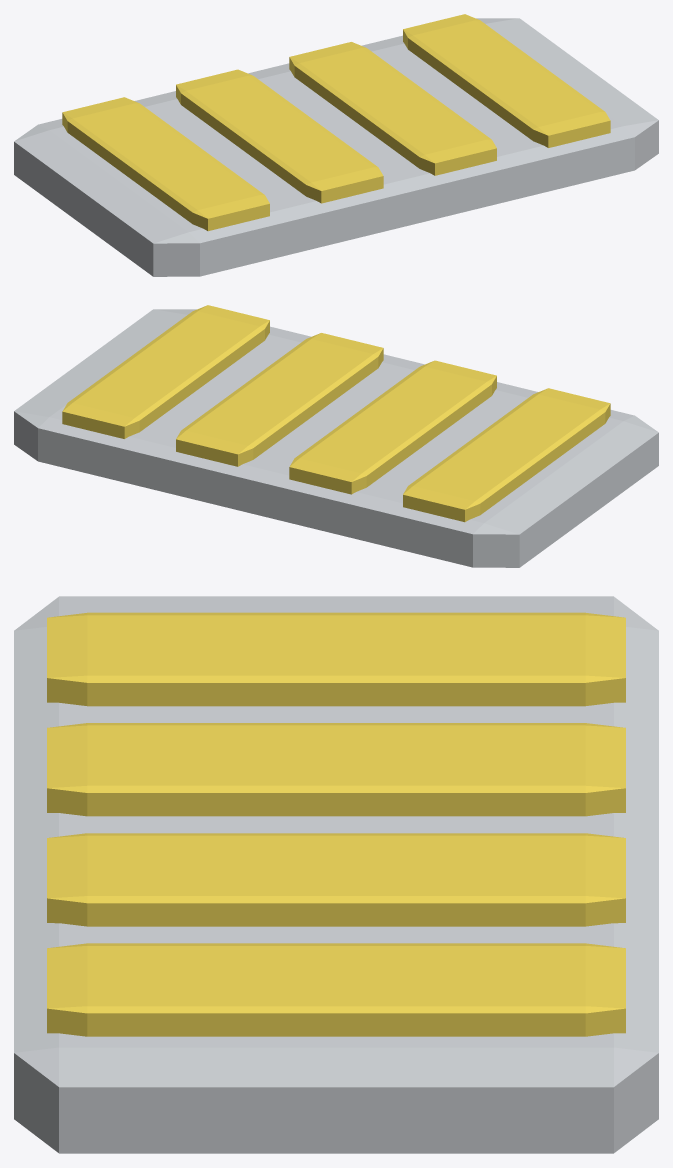
Rendered from b20_five_channel_event_cable_ramp.glb.
3 renders of one model, top to bottom at view 1: azimuth 30°, elevation 25°; view 2: azimuth 150°, elevation 25°; view 3: azimuth 270°, elevation 25°, orthographic. The views are drawn at different scales.
Visible parts, largest first — view 1: b20_five_channel_event_cable_ramp; view 2: b20_five_channel_event_cable_ramp; view 3: b20_five_channel_event_cable_ramp.
Part boxes in pixels (x1,y1,x2,y2): b20_five_channel_event_cable_ramp: (14, 14, 658, 276); b20_five_channel_event_cable_ramp: (14, 305, 658, 567); b20_five_channel_event_cable_ramp: (14, 596, 658, 1153).
Size of the model in its own units: 1.08 by 0.105 by 0.597.
